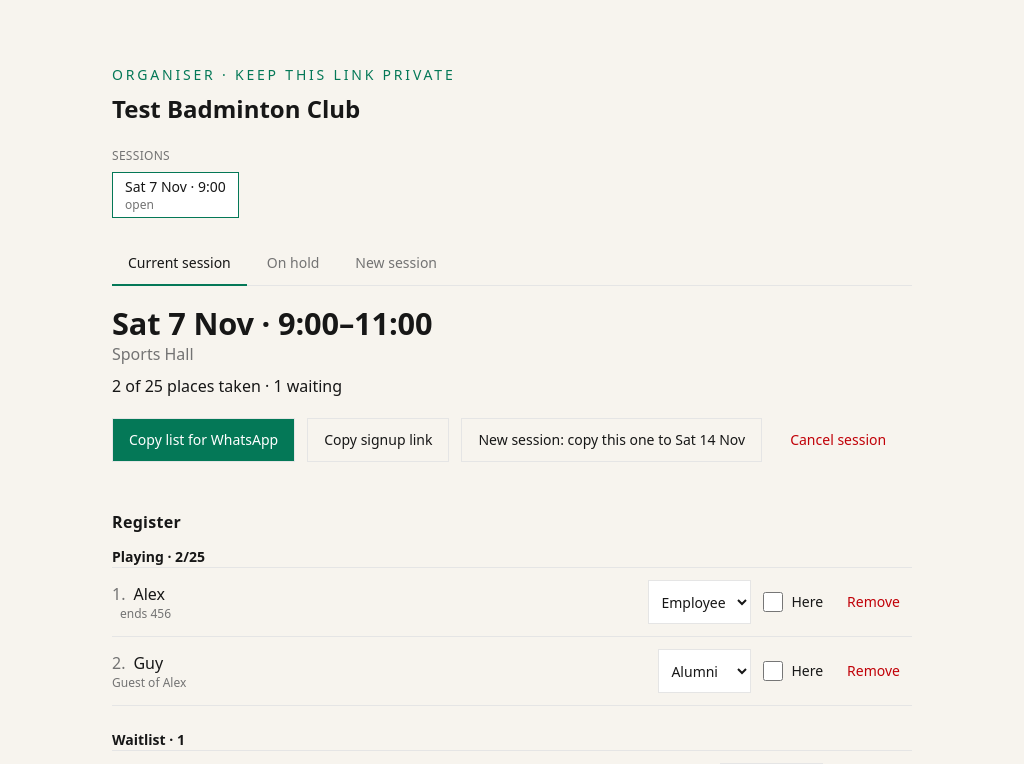
Test: copying for WhatsApp › copies the list text and confirms it
Click the button "Copy list for WhatsApp".
click(204, 440)  # box [112,418,295,462]
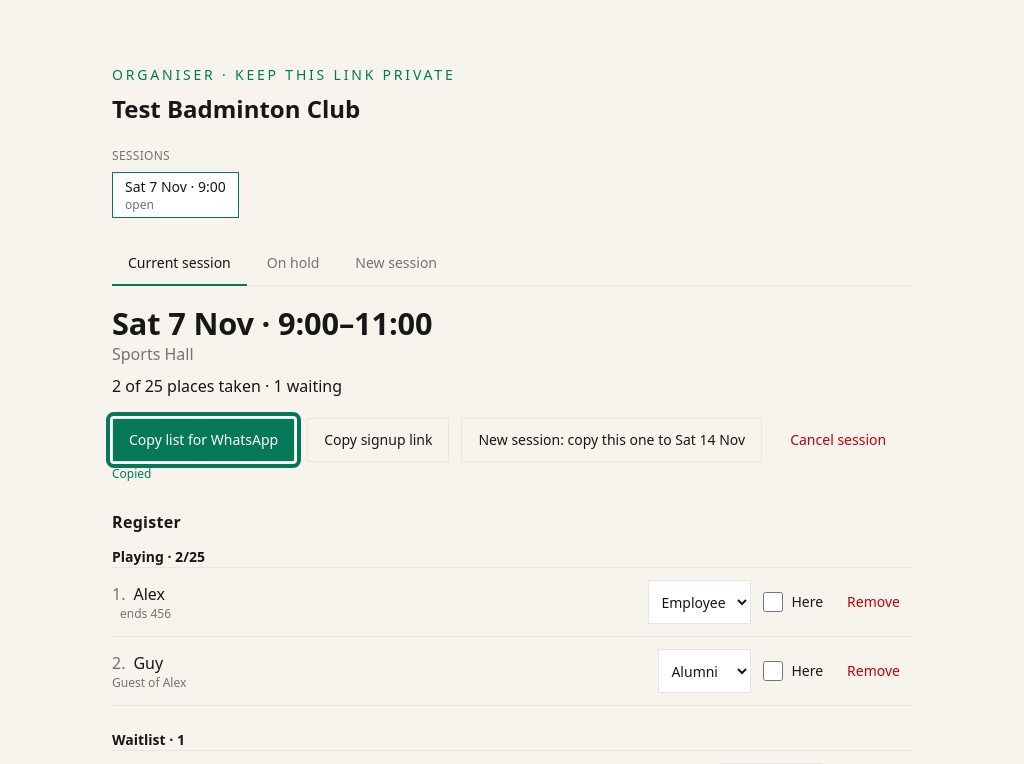
Now the text "Copied" is shown, box [112,466,152,482]
